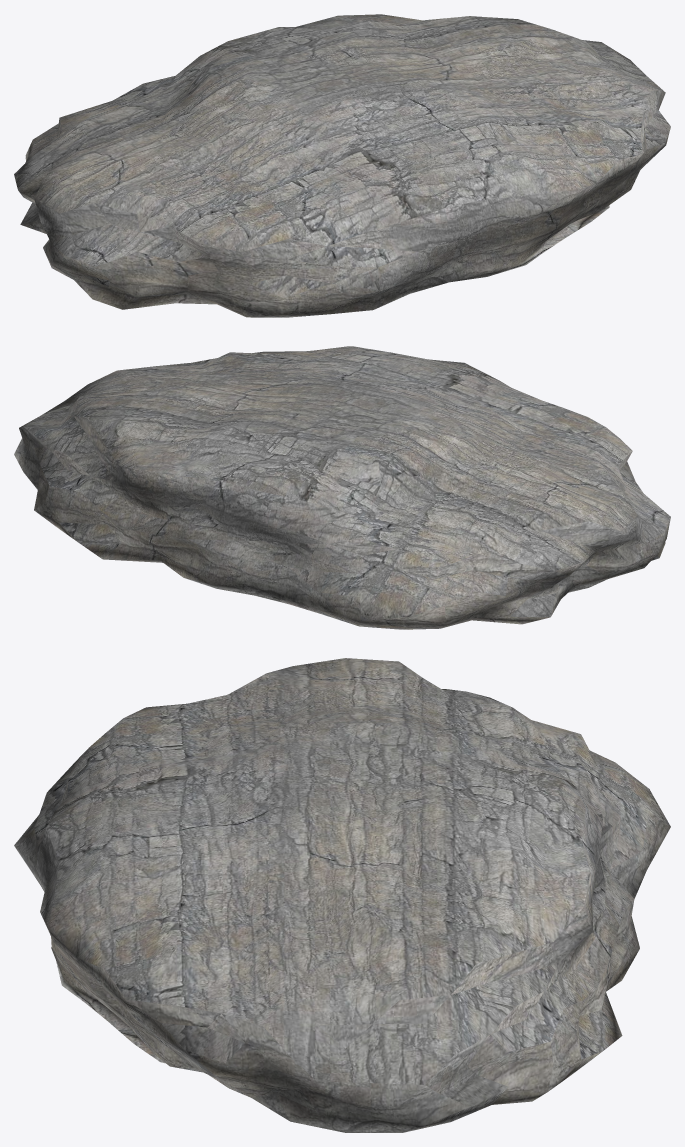
File: rock_slab.glb
3 views of the same model, one above another, from view 1: azimuth 30°, elevation 25°; view 2: azimuth 150°, elevation 25°; view 3: azimuth 270°, elevation 25° (orthographic). The views are drawn at different scales.
Parts seen in each view (by area): view 1: rock_slab; view 2: rock_slab; view 3: rock_slab.
Part boxes in pixels (bbox=[...]): rock_slab: bbox=[14, 14, 670, 317]; rock_slab: bbox=[14, 346, 670, 629]; rock_slab: bbox=[14, 658, 670, 1132].
Bounding box in the file's own units: 3.86 × 0.7529 × 2.69.
1 material, 1 textured.
